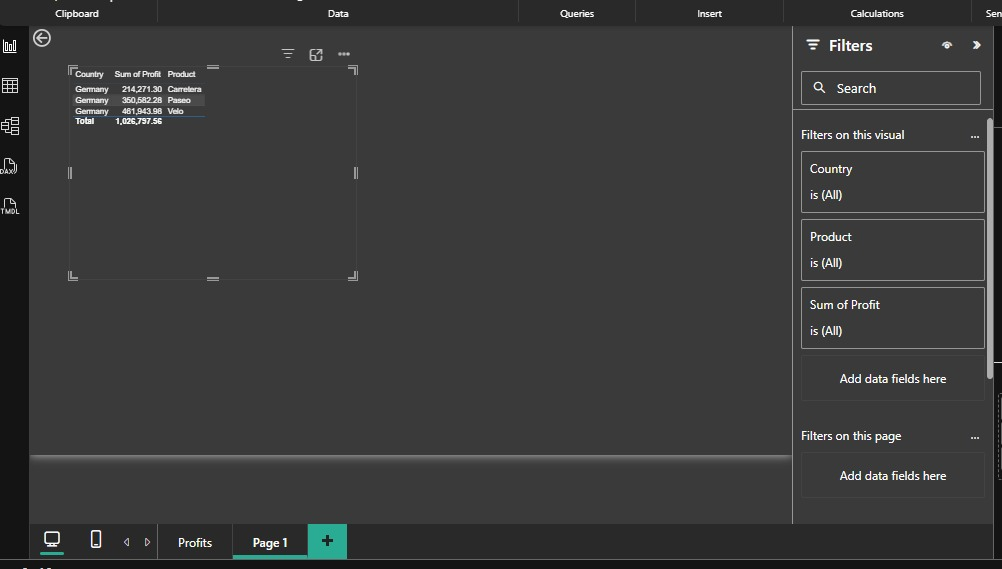

What the dashboard file says about the page in this screenshot:
{"tool":"powerbi","page":{"name":"Page 1","canvas":[1280,720],"ordinal":3},"visuals":[{"type":"tableEx","fields":{"Values":["Table13.Customer Name","Sum(Table13.Sales)","Sum(Table13.Profit)"]},"box":[29.4,38.2,556.9,280.7],"z":0},{"type":"actionButton","box":[0,0,100,40],"z":1000}]}

Visuals, with their boxes on the page's 1280x720 design canvas (x1, y1, x2, y2). These are canvas units, not pixel positions in the 1002x569 screenshot, which may show the page scaled, cropped or inside an application window:
tableEx - Table13.Customer Name x Sum(Table13.Sales): <bbox>29, 38, 586, 319</bbox>
actionButton: <bbox>0, 0, 100, 40</bbox>
